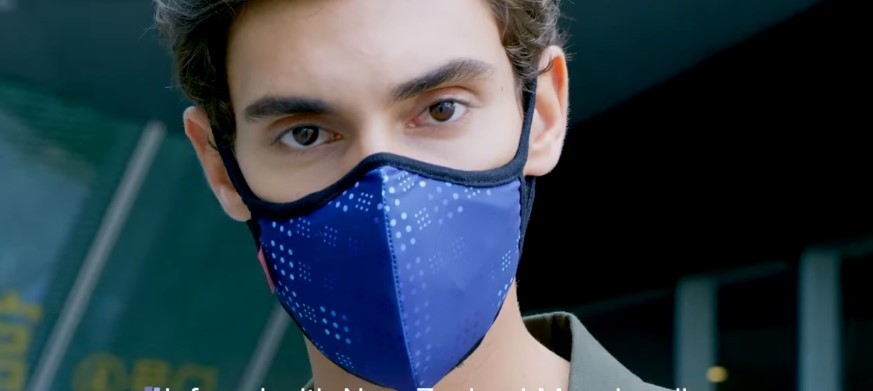face_with_mask: (177, 0, 572, 388)
